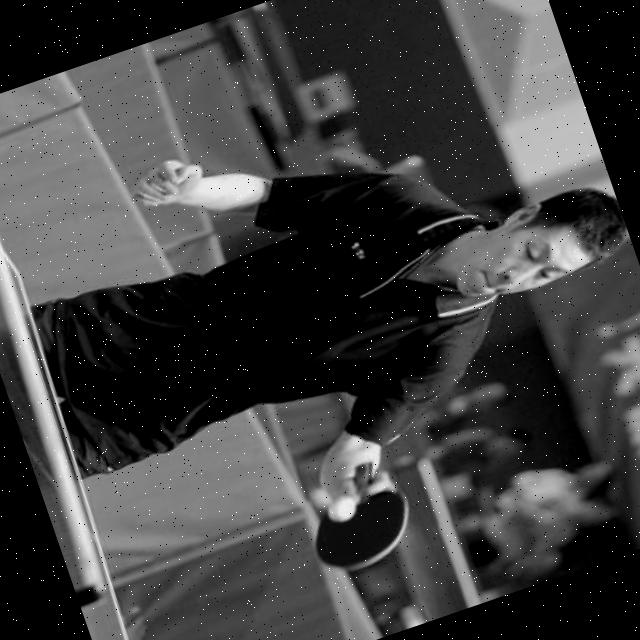ping-pong-ball: (323, 490, 362, 524)
